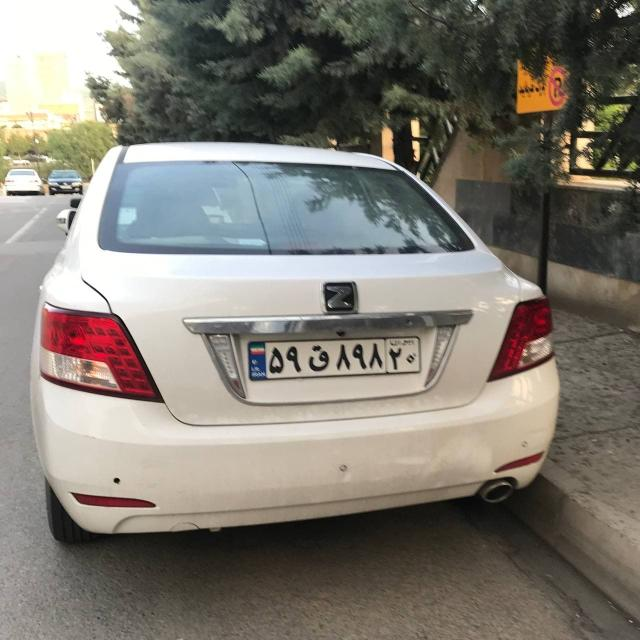Plates: (248, 335, 420, 380)
